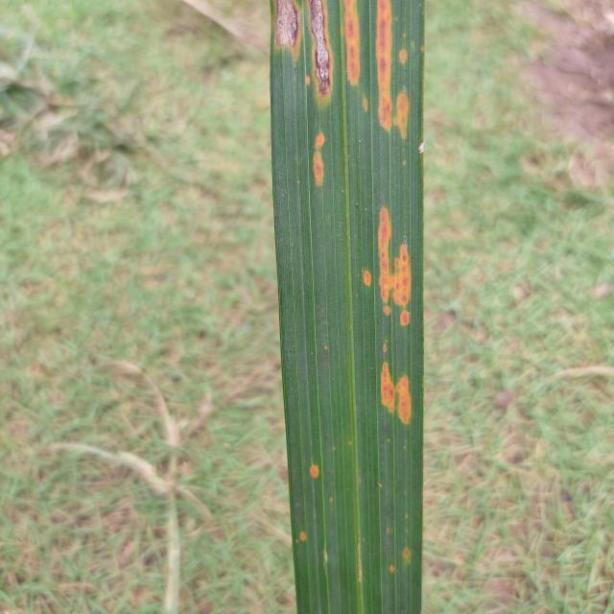Kalium: (267, 0, 427, 614)
